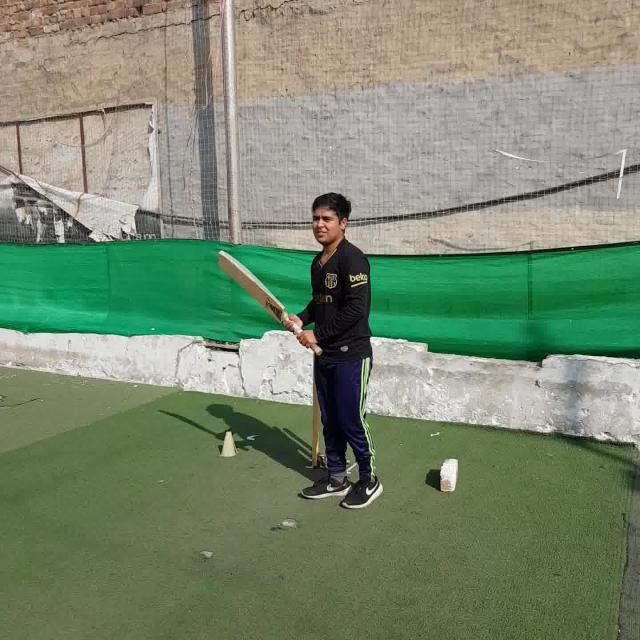bat: (217, 251, 322, 354)
